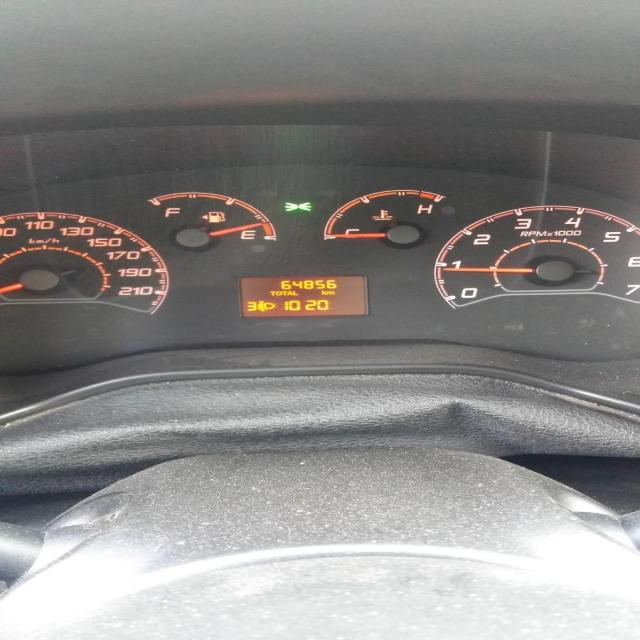odometer: (237, 274, 370, 318)
